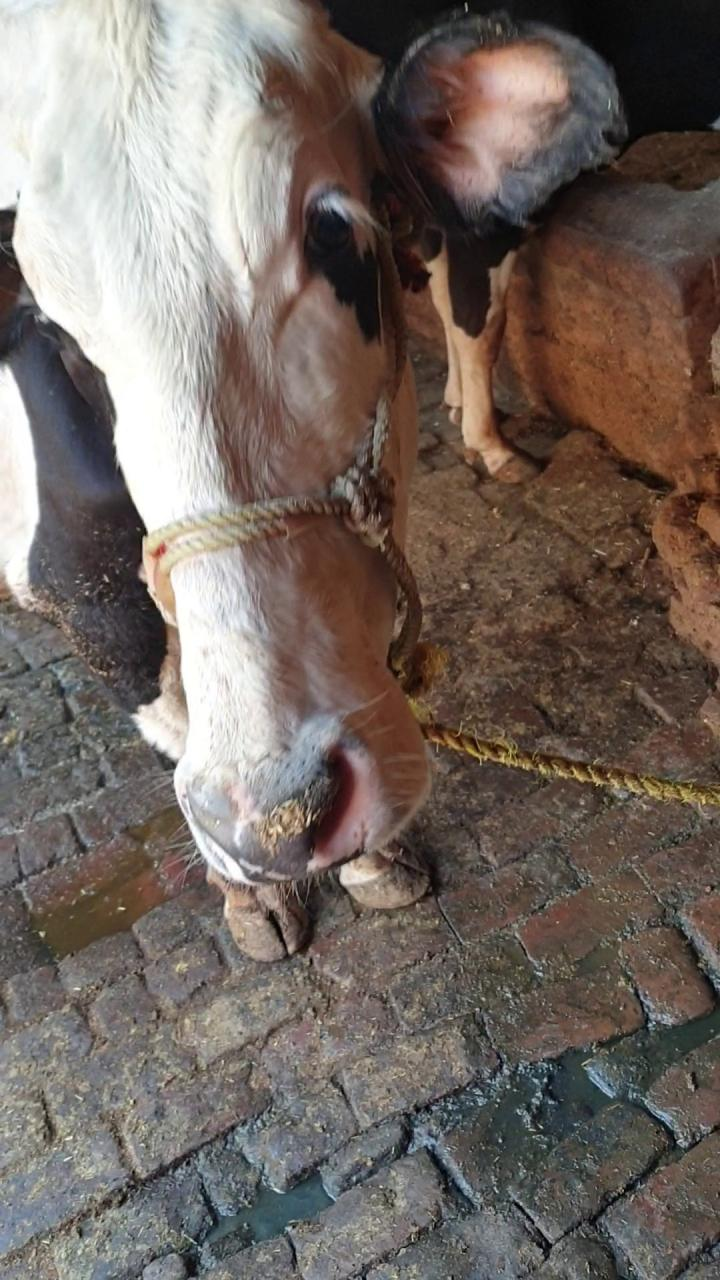cows: (0, 10, 500, 873)
